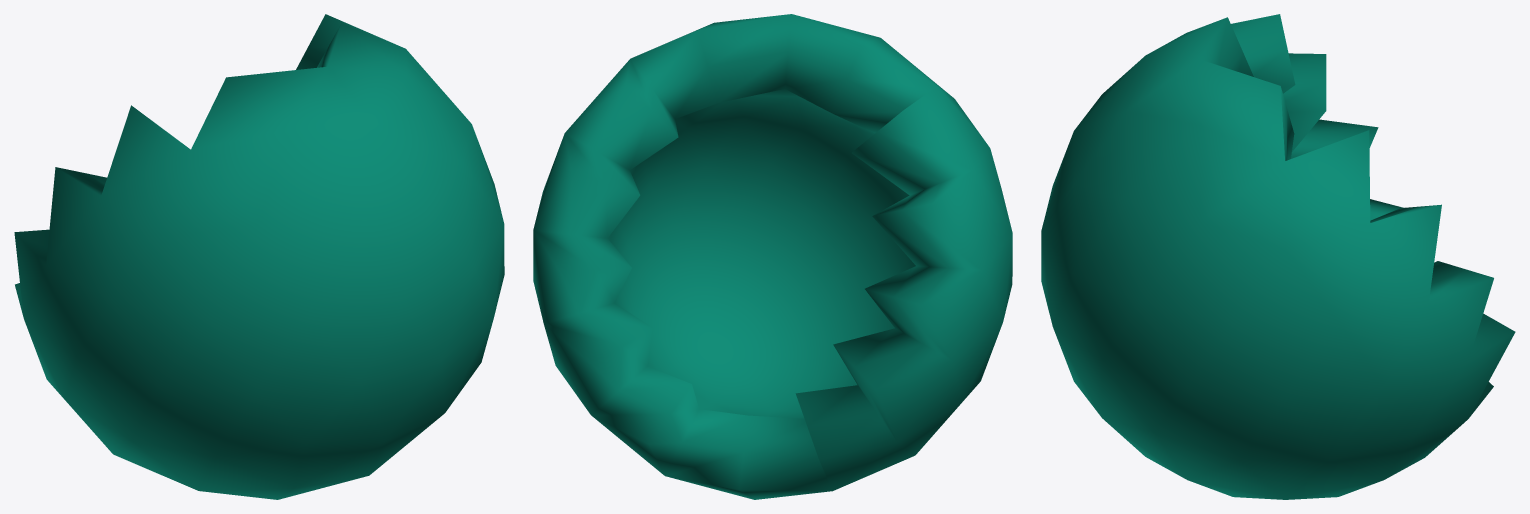
The model's file is Bitten Gumball.obj.
3 views of the same model, side by side, from view 1: azimuth 30°, elevation 25°; view 2: azimuth 150°, elevation 25°; view 3: azimuth 270°, elevation 25° (orthographic). The views are drawn at different scales.
Visible parts, largest first — view 1: Bitten_Gumball; view 2: Bitten_Gumball; view 3: Bitten_Gumball.
Part boxes in pixels (box(x1,y1,x2,y2)): Bitten_Gumball: box(14, 14, 504, 499); Bitten_Gumball: box(533, 14, 1012, 499); Bitten_Gumball: box(1041, 14, 1515, 499).
Size of the model in its own units: 15.87 by 15.53 by 15.36.
